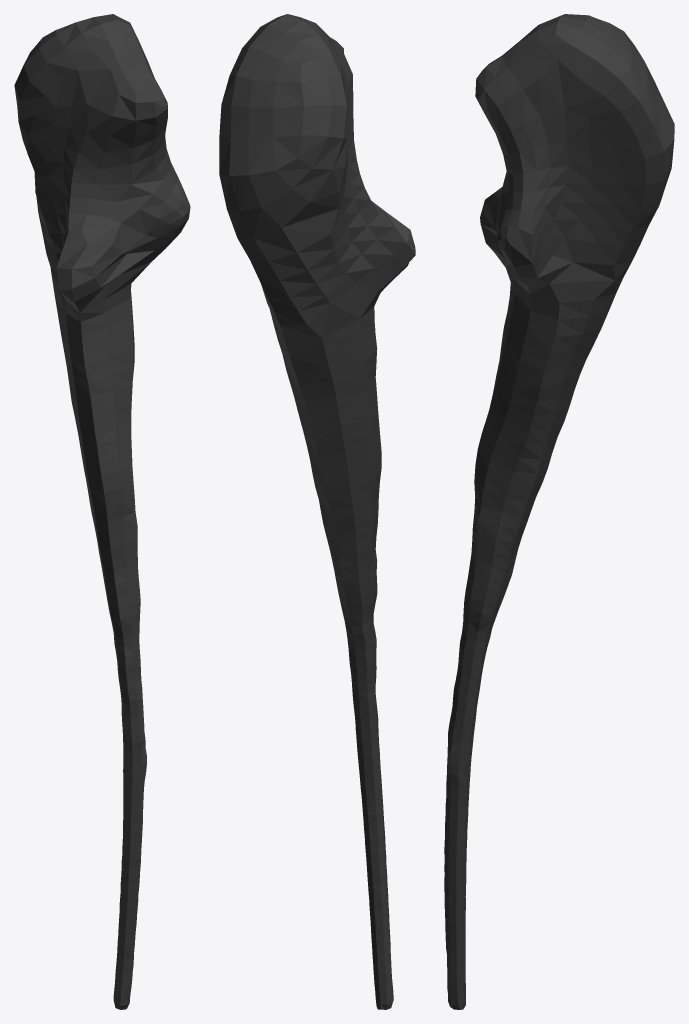
File: RFL_ulna.glb
3 renders of one model, left to right at view 1: azimuth 30°, elevation 25°; view 2: azimuth 150°, elevation 25°; view 3: azimuth 270°, elevation 25°, orthographic. The views are drawn at different scales.
Parts seen in each view (by area): view 1: RFL_ulna; view 2: RFL_ulna; view 3: RFL_ulna.
Part boxes in pixels (x1,y1,x2,y2): RFL_ulna: (14, 14, 190, 1009); RFL_ulna: (219, 14, 415, 1009); RFL_ulna: (444, 14, 674, 1009).
Size of the model in its own units: 9.04 by 58.41 by 12.09.
Materials: 1 (1 with a texture image).
